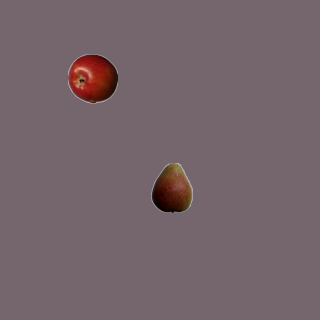Apple Braeburn: (67, 53, 117, 103)
Pear Forelle: (146, 162, 196, 212)
